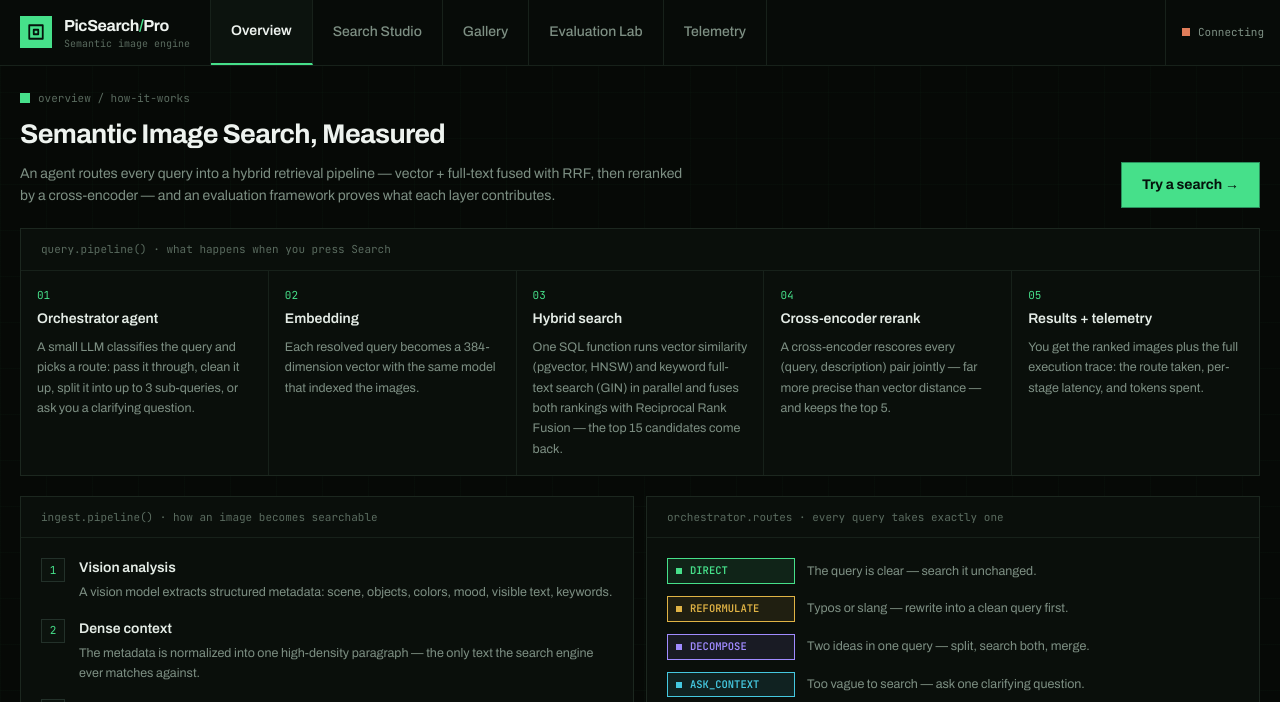
Test: App shell › navigates to the Search Studio with a labelled search input
Step 1. Click the button "Search Studio" → (378,32), box [313,0,443,64]
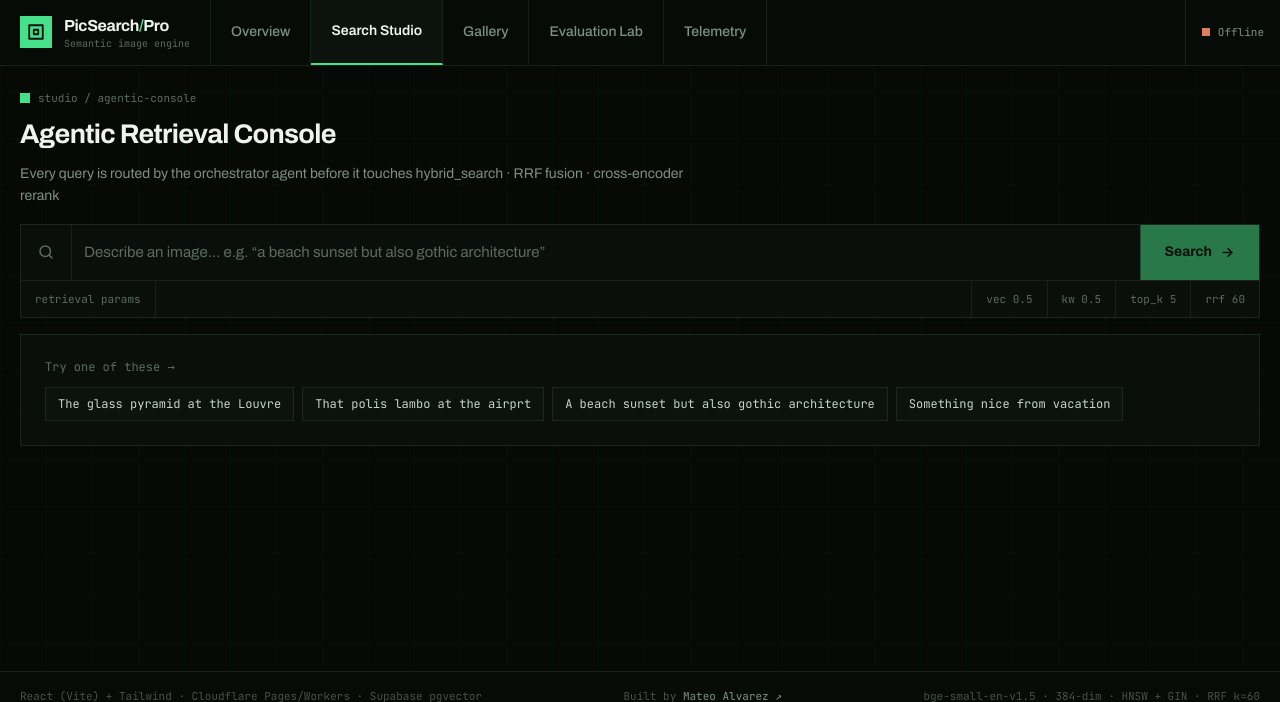
Now the field named "Search images" is shown, box [72,225,1140,280]
